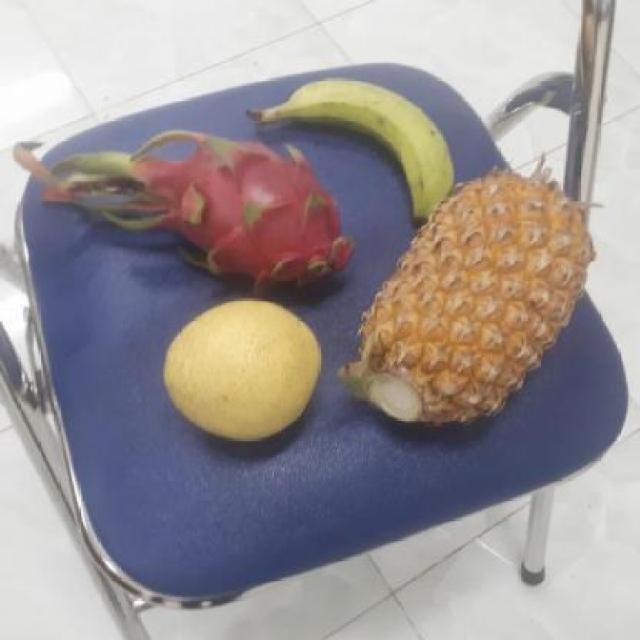banana: (267, 75, 462, 230)
dragon fruit: (138, 133, 357, 301)
guava: (168, 302, 334, 441)
pineapple: (343, 170, 591, 432)
